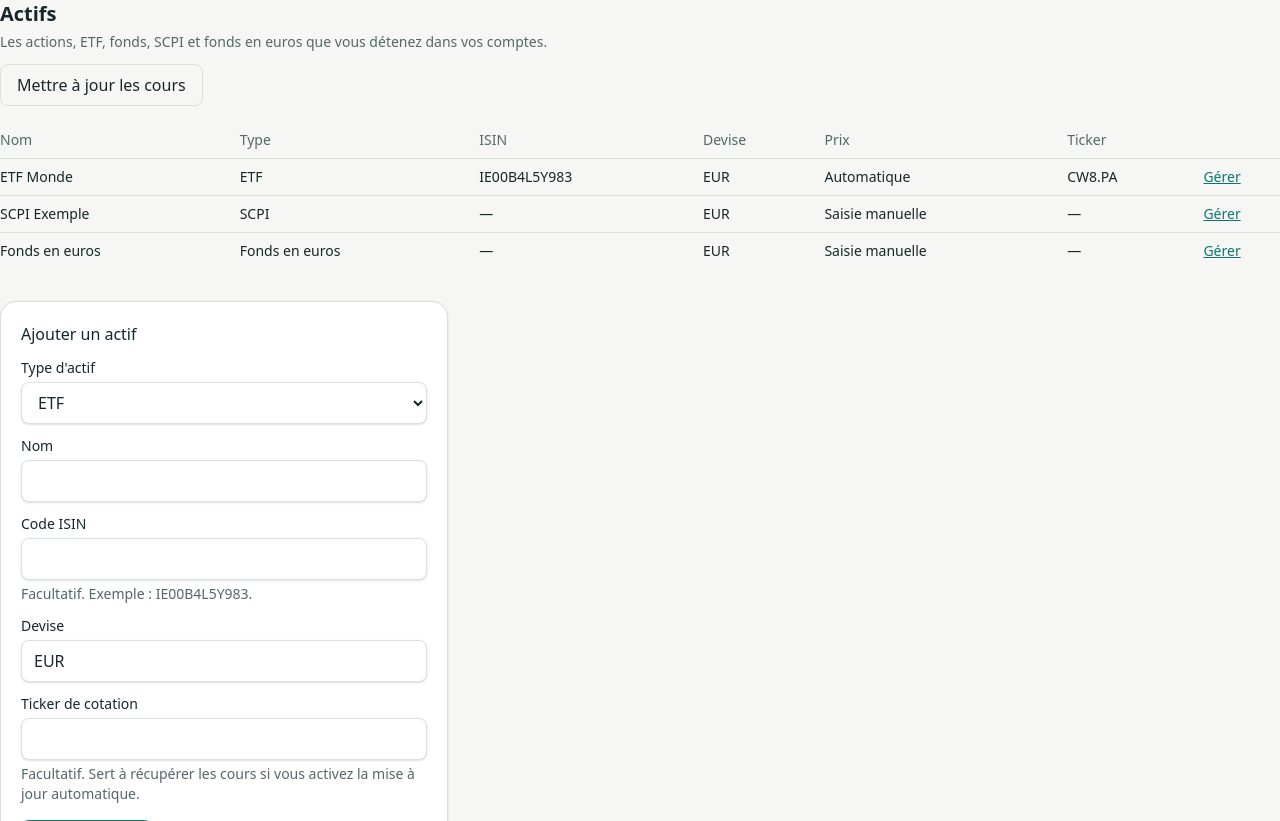
ticker › dit quand la recherche est impossible tant que la récupération est désactivée
Click the button "Gérer" in the row of "ETF Monde" at point(1222, 177), box x1=1203 y1=167 x2=1241 y2=187
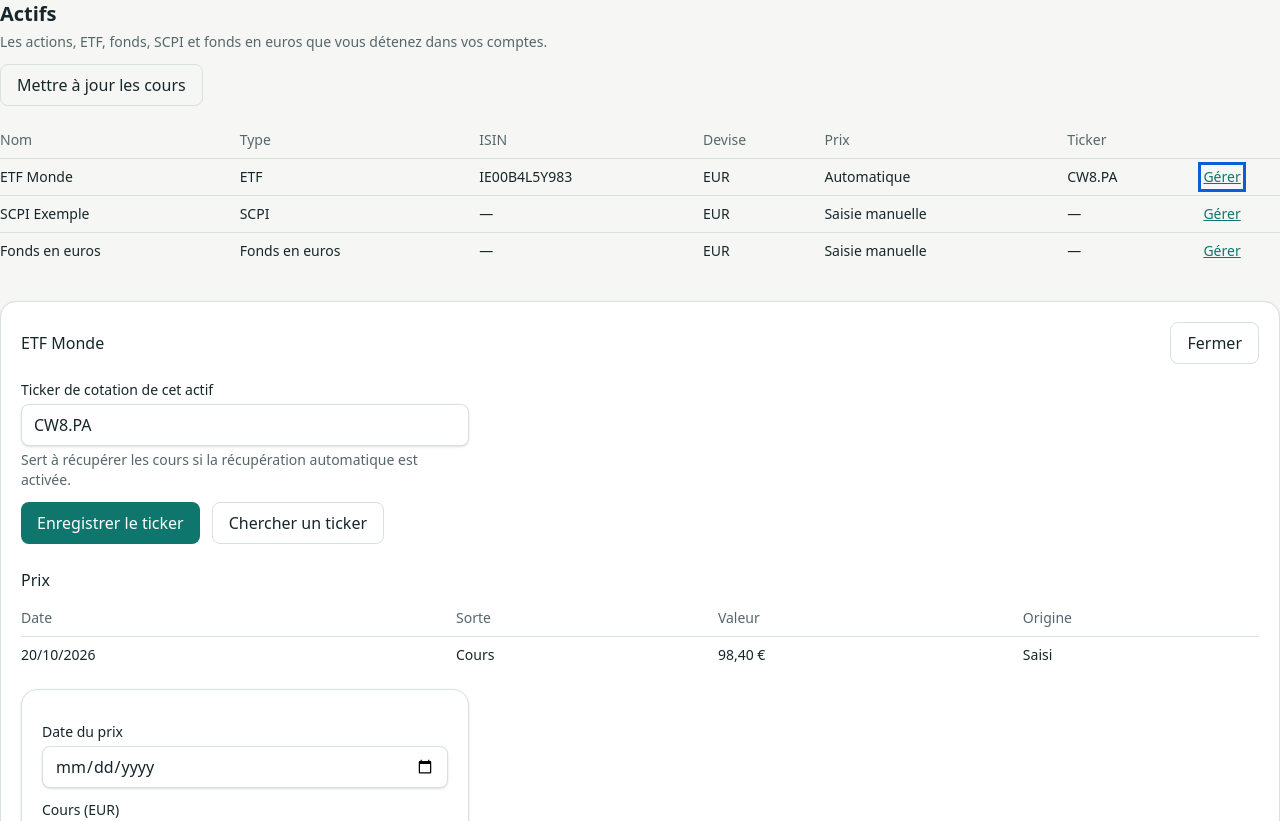
Click the button "Chercher un ticker" at point(298, 523), box x1=212 y1=502 x2=384 y2=544
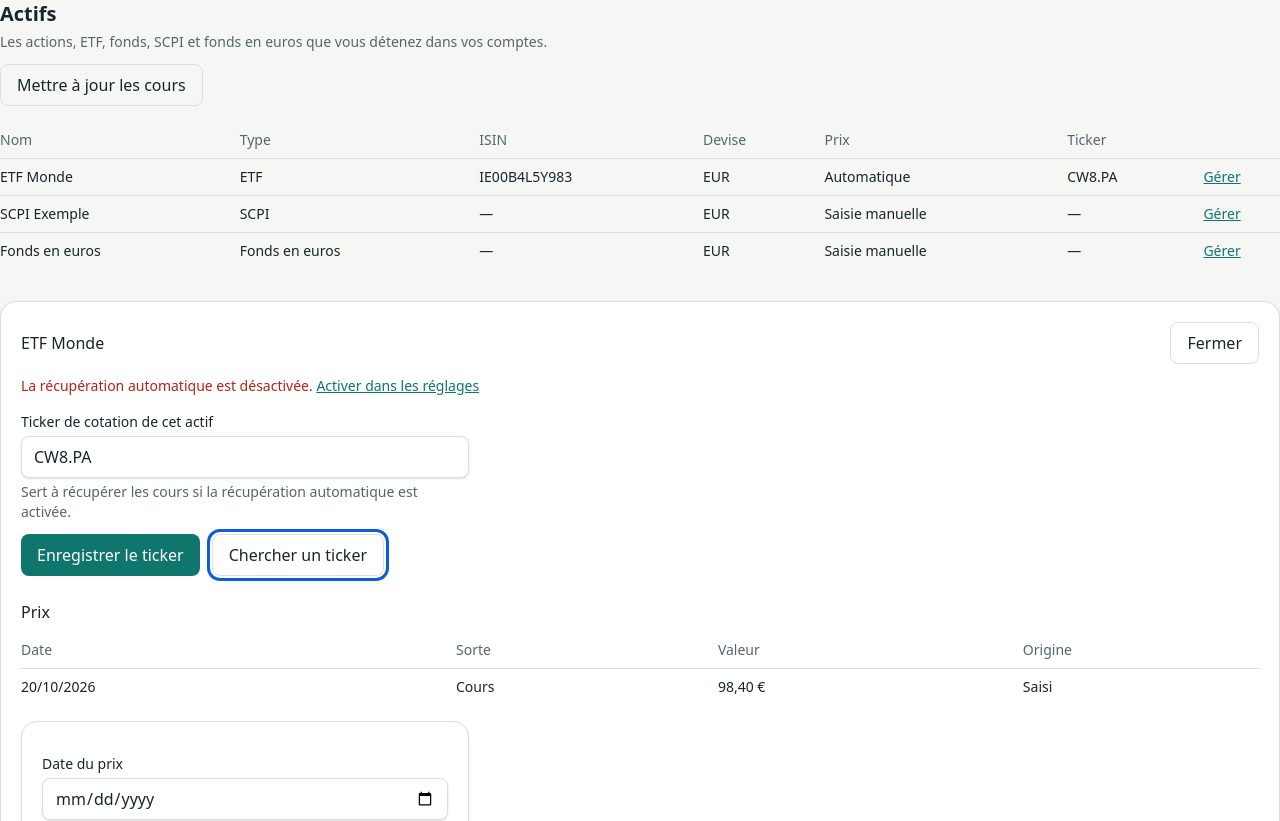
Now the message shows "La récupération automatique est désactivée.", box x1=21 y1=376 x2=313 y2=395
Now the link "Activer dans les réglages" is shown, box x1=316 y1=376 x2=479 y2=395
